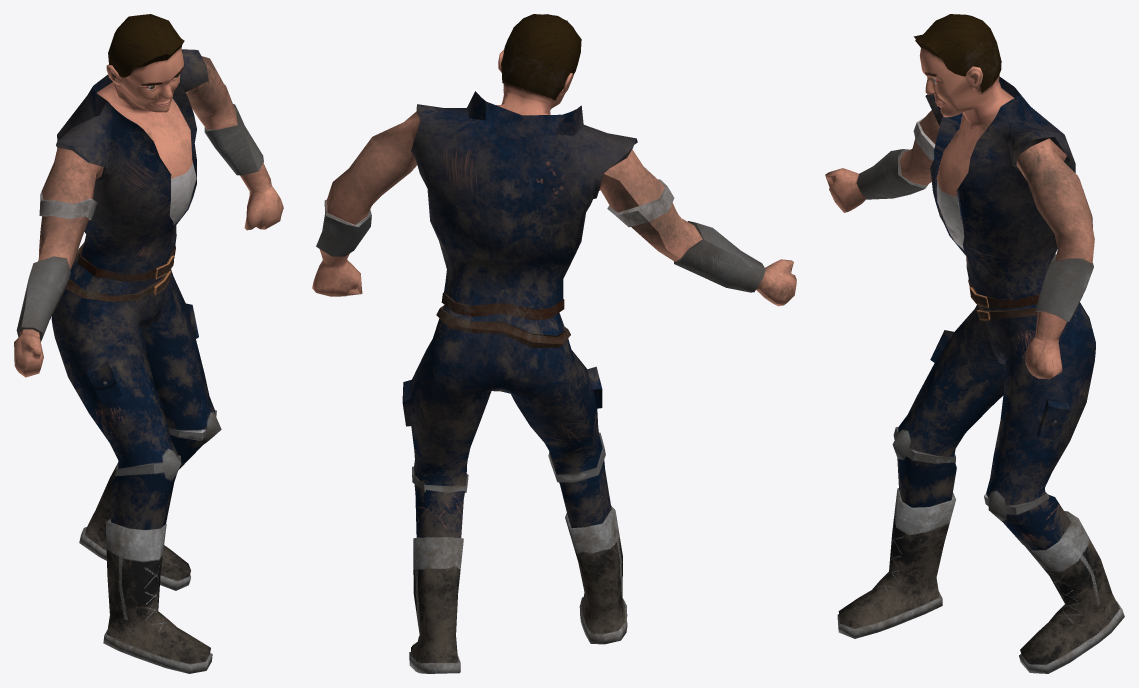
The model's file is Anim_interruptor_jugador.0023.obj.
3 renders of one model, left to right at view 1: azimuth 30°, elevation 25°; view 2: azimuth 150°, elevation 25°; view 3: azimuth 270°, elevation 25°, orthographic. The views are drawn at different scales.
Parts seen in each view (by area): view 1: polySurface1; view 2: polySurface1; view 3: polySurface1.
Part boxes in pixels (left/top/right/bottom): polySurface1: left=14, top=14, right=283, bottom=673; polySurface1: left=312, top=14, right=796, bottom=673; polySurface1: left=825, top=14, right=1124, bottom=673.
Size of the model in its own units: 5.76 by 9.26 by 4.08.
